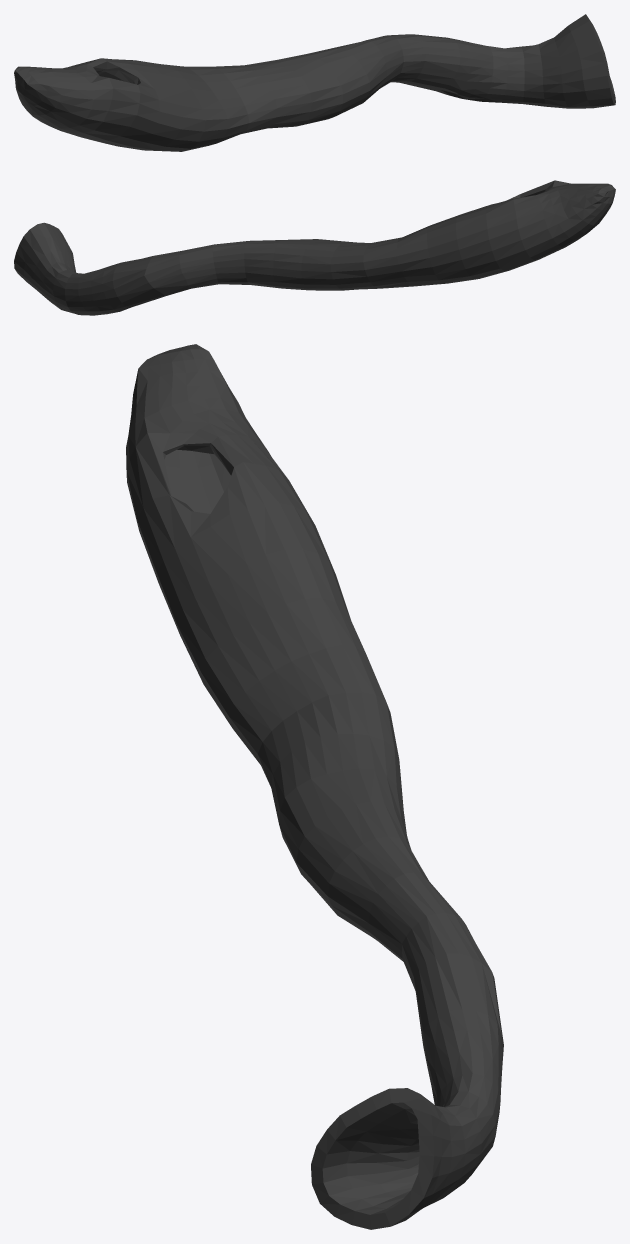
File: ileum_LP.glb
The picture shows the model from 3 angles, top to bottom: view 1: azimuth 30°, elevation 25°; view 2: azimuth 150°, elevation 25°; view 3: azimuth 270°, elevation 25°; orthographic projection. The views are drawn at different scales.
Visible parts, largest first — view 1: ileum_LP; view 2: ileum_LP; view 3: ileum_LP.
Boxes of the visible parts, x1,y1,x2,y2 form: ileum_LP: [14, 14, 615, 151]; ileum_LP: [14, 180, 615, 315]; ileum_LP: [126, 344, 503, 1229].
Size of the model in its own units: 0.0069 by 0.00233 by 0.0021.
Materials: 1 (1 with a texture image).
